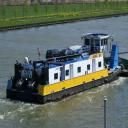tugboat: (6, 32, 123, 110)
